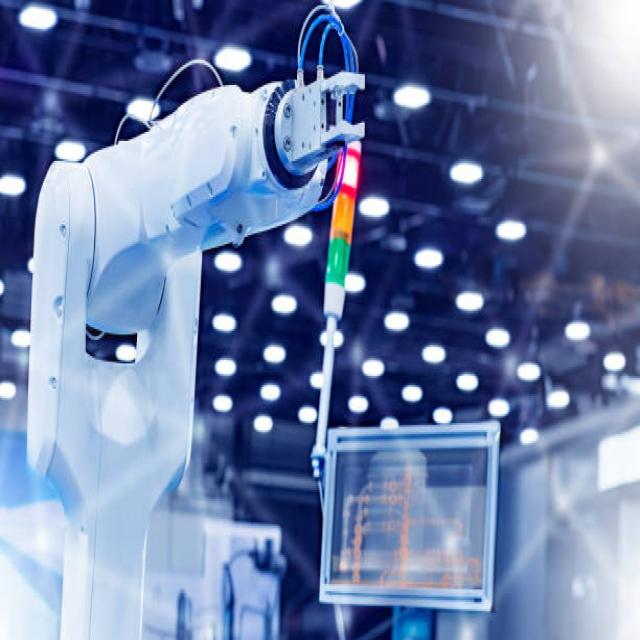Robotic-arm: (23, 65, 366, 640)
